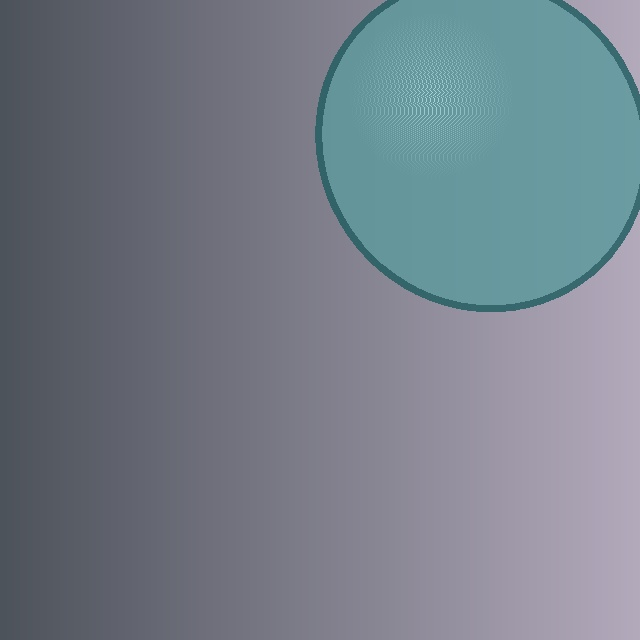lens: (319, 0, 640, 307)
